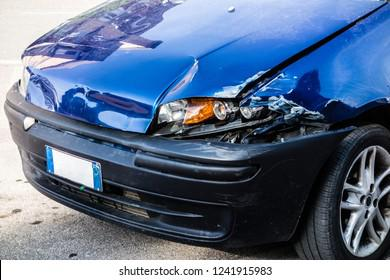Headlight-Damage: (154, 97, 285, 148)
bonnet-dent: (24, 0, 252, 135)
fender-dent: (260, 59, 389, 160)
